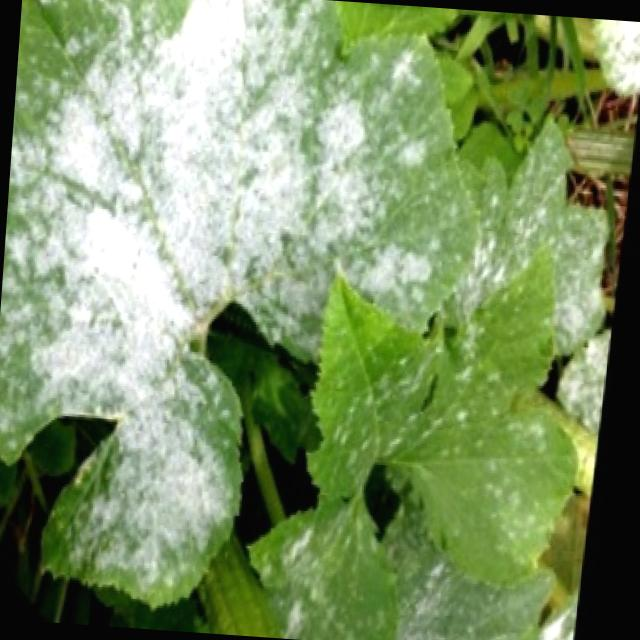Powdery_Mildew: (0, 0, 483, 640), (270, 88, 624, 640), (4, 117, 160, 455), (487, 126, 613, 352), (337, 107, 447, 329)
